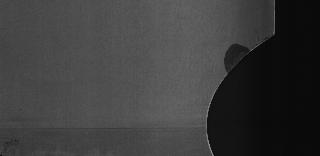welding line: (2, 122, 225, 136)
